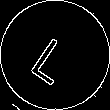L_NE: (28, 26, 82, 84)
